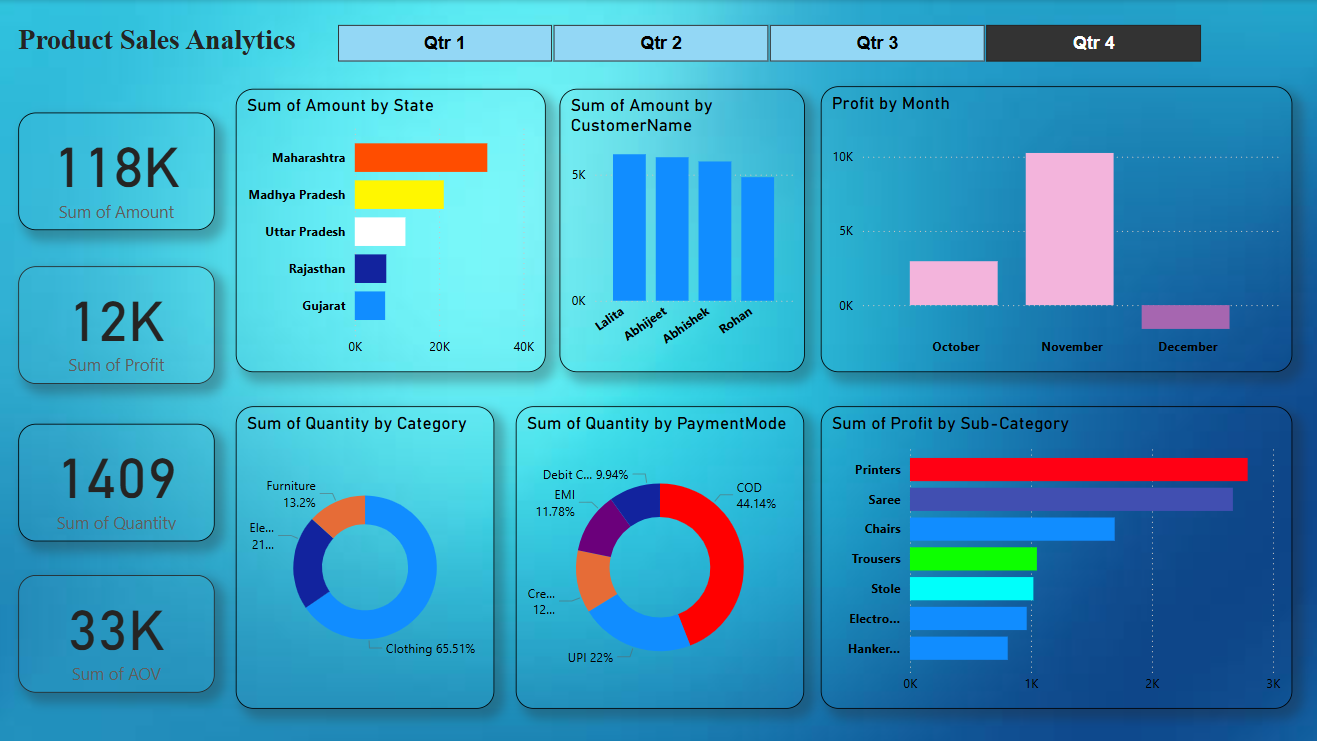

The page's visual inventory and layout, read from the dashboard file:
{"tool":"powerbi","page":{"name":"Page 1","canvas":[1280,720],"ordinal":0},"visuals":[{"type":"textbox","box":[8.4,18.1,292,56.7],"z":0},{"type":"columnChart","title":"Profit by Month","fields":{"Category":["Orders.Order Date.Variation.Date Hierarchy.Month"],"Y":["Details.Profit"]},"box":[795,83.2,454.8,276.3],"z":1000},{"type":"barChart","fields":{"Category":["Details.Sub-Category"],"Y":["Details.Profit"]},"box":[795,392.1,454.8,292],"z":2000},{"type":"donutChart","fields":{"Category":["Details.Category"],"Y":["Details.Quantity"]},"box":[230.4,392.1,249.7,292],"z":3000},{"type":"donutChart","fields":{"Y":["Details.Quantity"],"Category":["Details.PaymentMode"]},"box":[500.7,392.1,278.7,292],"z":4000},{"type":"card","fields":{"Values":["Details.Amount"]},"box":[20.5,108.6,189.4,113.4],"z":5000},{"type":"card","fields":{"Values":["Details.Quantity"]},"box":[20.5,409,189.4,113.4],"z":6000},{"type":"card","fields":{"Values":["Details.Profit"]},"box":[20.5,257,189.4,113.4],"z":7000},{"type":"card","fields":{"Values":["Details.AOV"]},"box":[20.5,555,189.4,113.4],"z":8000},{"type":"barChart","fields":{"Y":["Details.Amount"],"Category":["Orders.State"]},"box":[230.4,85.7,299.2,273.9],"z":9000},{"type":"columnChart","fields":{"Category":["Orders.CustomerName"],"Y":["Details.Amount"]},"box":[542.9,85.7,236.5,273.9],"z":10000},{"type":"slicer","fields":{"Values":["Orders.Order Date.Variation.Date Hierarchy.Quarter"]},"box":[302.8,16.9,883.1,49.5],"z":11000}]}

Visuals, with their boxes in screenshot pixels (x1, y1, x2, y2), scaled from the page's 1280x720 canvas onto the 1317x741 screenshot:
textbox: pyautogui.locateOnScreen(9, 19, 309, 77)
"Profit by Month" columnChart: pyautogui.locateOnScreen(818, 86, 1286, 370)
barChart - Details.Sub-Category x Details.Profit: pyautogui.locateOnScreen(818, 404, 1286, 704)
donutChart - Details.Category x Details.Quantity: pyautogui.locateOnScreen(237, 404, 494, 704)
donutChart - Details.Quantity x Details.PaymentMode: pyautogui.locateOnScreen(515, 404, 802, 704)
card - Details.Amount: pyautogui.locateOnScreen(21, 112, 216, 228)
card - Details.Quantity: pyautogui.locateOnScreen(21, 421, 216, 538)
card - Details.Profit: pyautogui.locateOnScreen(21, 264, 216, 381)
card - Details.AOV: pyautogui.locateOnScreen(21, 571, 216, 688)
barChart - Details.Amount x Orders.State: pyautogui.locateOnScreen(237, 88, 545, 370)
columnChart - Orders.CustomerName x Details.Amount: pyautogui.locateOnScreen(559, 88, 802, 370)
slicer - Orders.Order Date.Variation.Date Hierarchy.Quarter: pyautogui.locateOnScreen(312, 17, 1220, 68)
